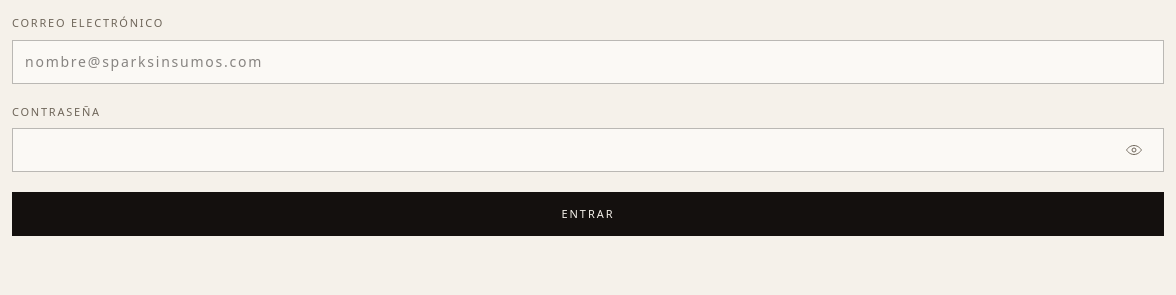
Test: login form › shows forbidden when the role cannot use the panel
The image size is (1176, 295).
Step 1. Type "ana@sparks.com" into the field labelled "Correo electrónico" → (588, 62), box [12, 40, 1164, 84]
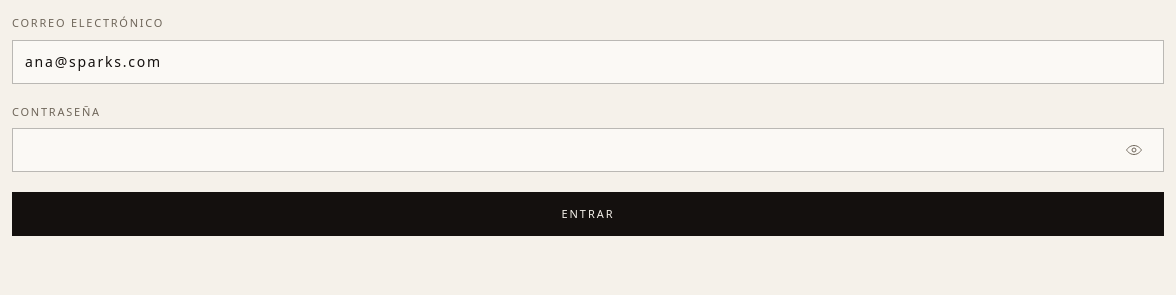
Step 2. Type "Sparks1!" into the password field labelled "Contraseña" → (588, 150), box [12, 128, 1164, 172]
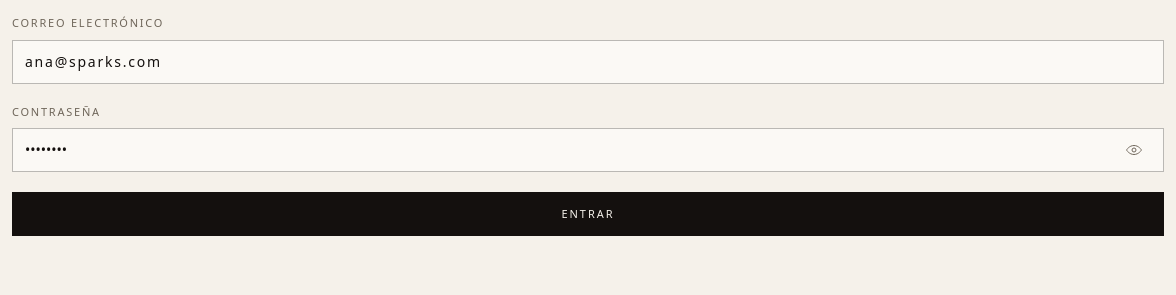
Step 3. Click the button "Entrar" → (588, 214), box [12, 192, 1164, 236]
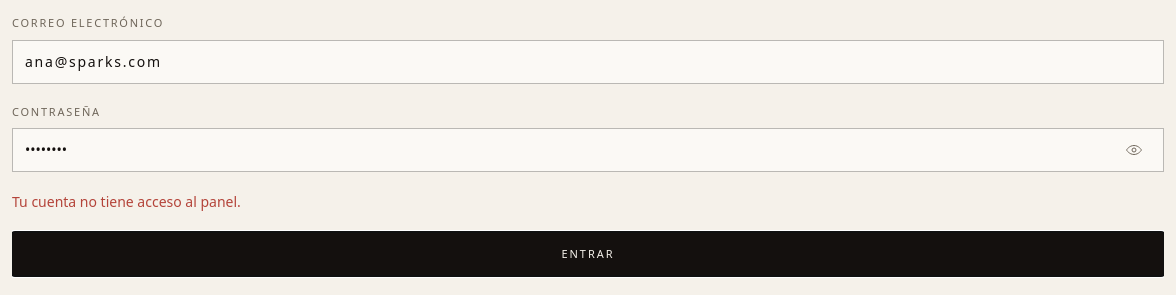
Expected: the message reads "Tu cuenta no tiene acceso al panel.", [12, 192, 241, 211]
